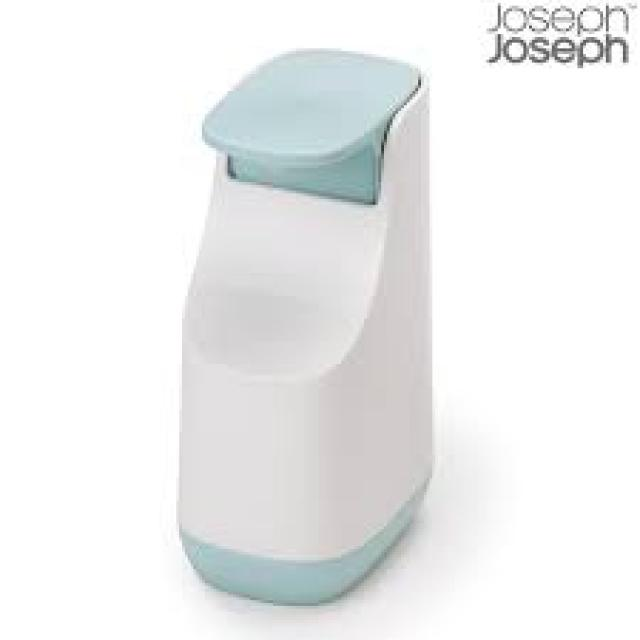liquid soap: (165, 34, 455, 615)
